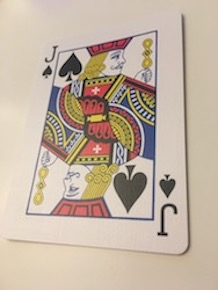JackOfSpades: (7, 8, 197, 262)
